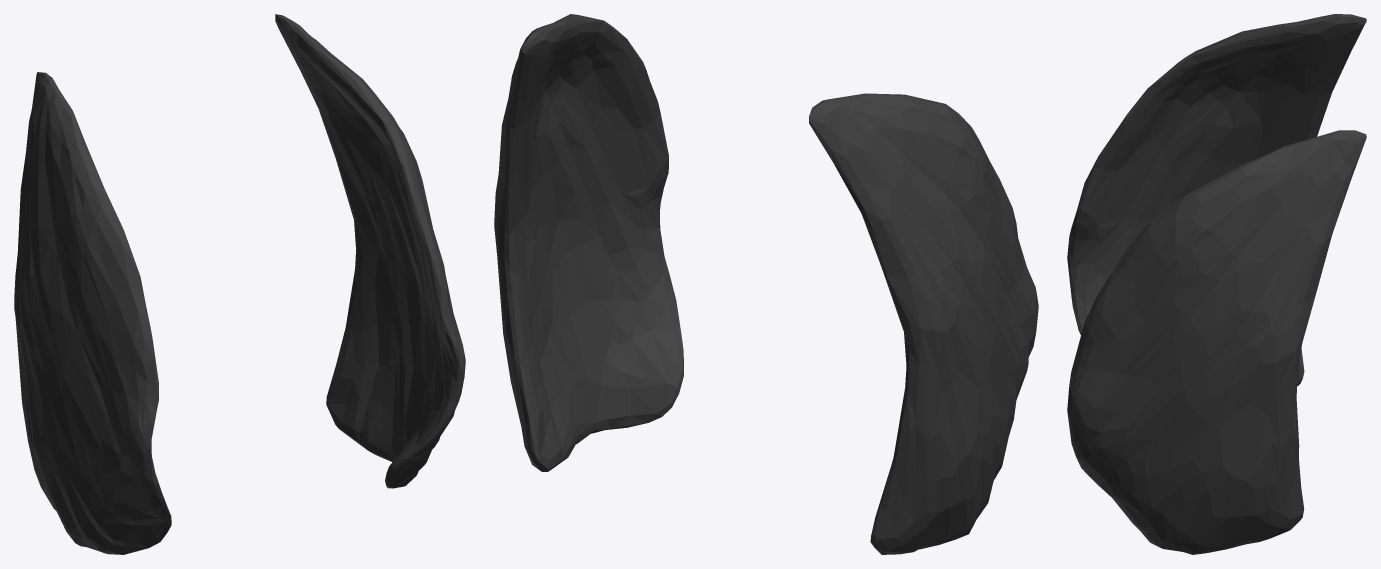
The model's file is m_omobrachialis.glb.
The picture shows the model from 3 angles, left to right: view 1: azimuth 30°, elevation 25°; view 2: azimuth 150°, elevation 25°; view 3: azimuth 270°, elevation 25°; orthographic projection. The views are drawn at different scales.
Parts seen in each view (by area): view 1: m_omobrachialis; view 2: m_omobrachialis; view 3: m_omobrachialis.
Boxes of the visible parts, box(x1,y1,x2,y2) form: m_omobrachialis: box(14, 14, 465, 554); m_omobrachialis: box(494, 14, 1038, 554); m_omobrachialis: box(1067, 14, 1366, 554).
Bounding box in the file's own units: 0.0085 × 0.00877 × 0.00588.
Materials: 1 (1 with a texture image).
